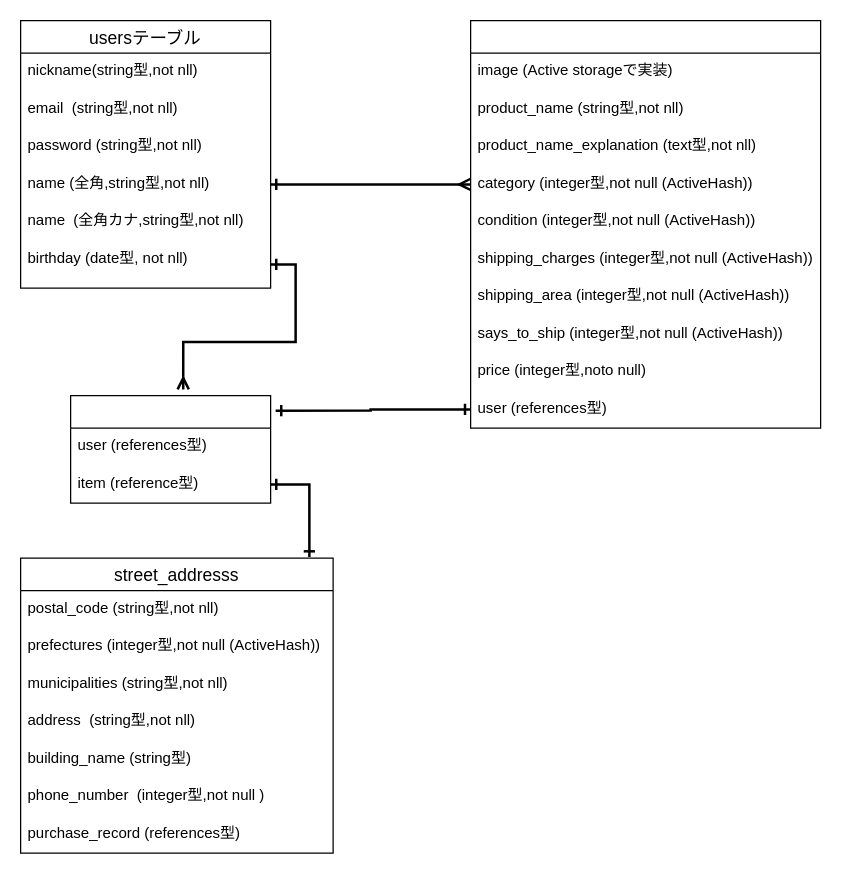
Image size: 841x874. Some labels were removed from this diagram. Here are the shapes that lost their labels. From the top down, the box of each, then its label:
(469, 19, 821, 428): itemsテーブル
(69, 394, 271, 503): purchase_records
